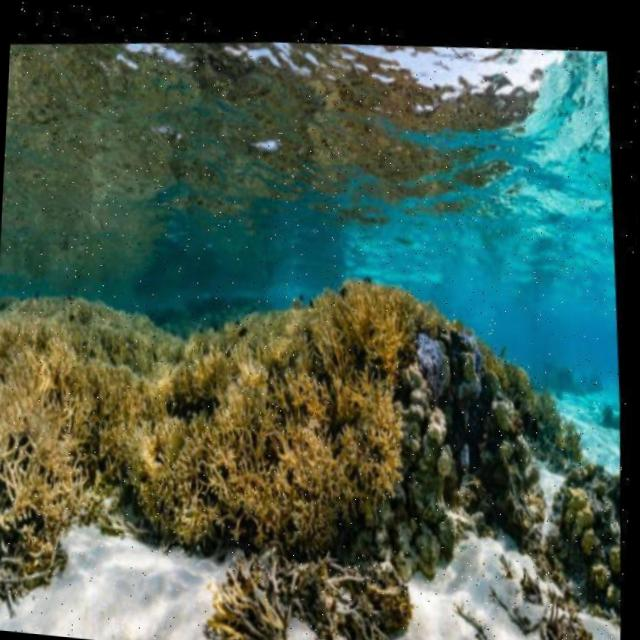Healthy Coral: (0, 237, 482, 581)
